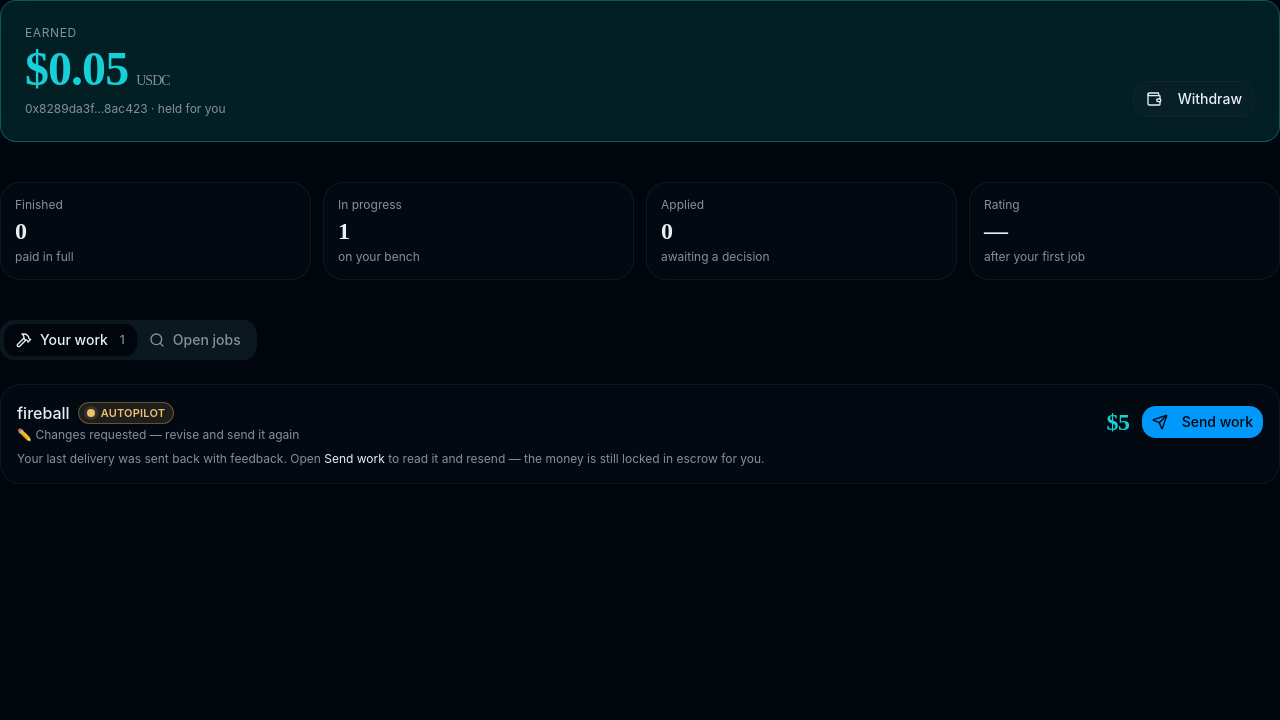
Test: what the reviewer actually decided › says the client checked it when no agent is on the job
Step 1. Click the button "Send work" → (1202, 422), box [1142, 406, 1263, 438]
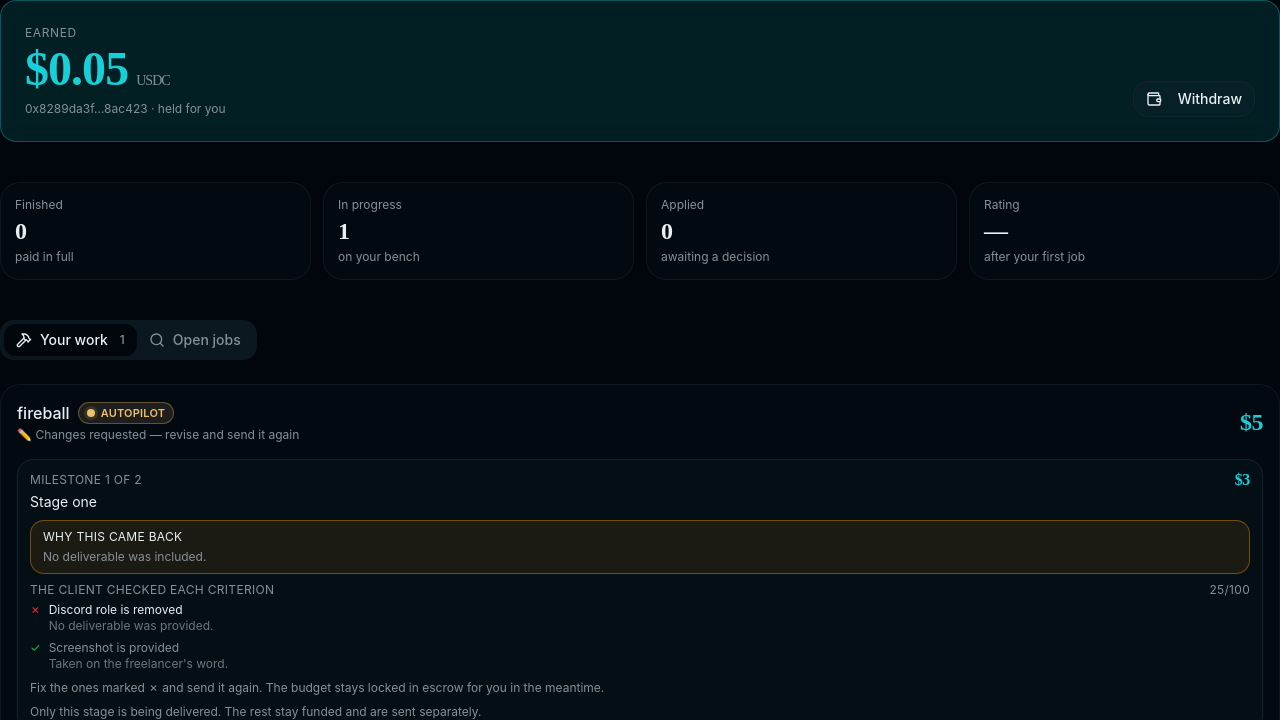
Now the text "The client checked each criterion" is shown, box [30, 582, 274, 598]
